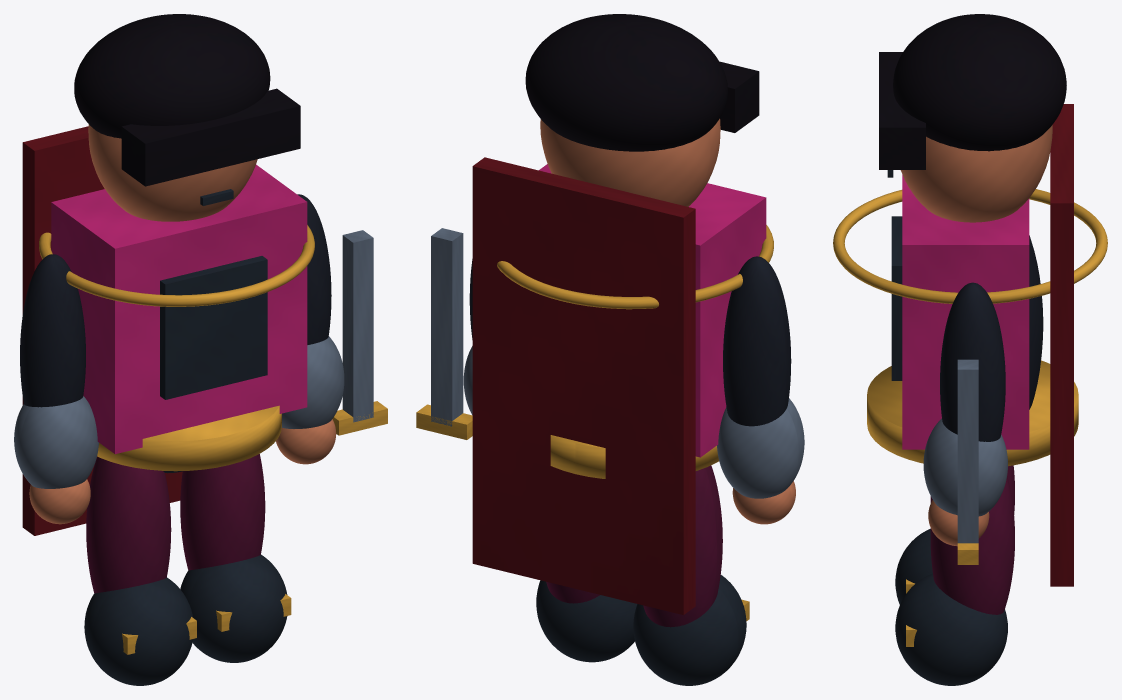
The model's file is Foundation.glb.
3 renders of one model, left to right at view 1: azimuth 30°, elevation 25°; view 2: azimuth 150°, elevation 25°; view 3: azimuth 270°, elevation 25°, orthographic. The views are drawn at different scales.
Visible parts, largest first — view 1: ChestPlate, Hair, ChestInset, HairFringe, Leg, Boot, Arm, Boot.001, Cape, Leg.001, Head, WaistGuard (+8 smaller); view 2: Cape, Hair, ChestPlate, Arm, Head, Boot, Dagger, Gauntlet, Boot.001, Leg, ShoulderCrest, WaistGuard (+4 smaller); view 3: ChestPlate, Hair, Cape, Head, Boot.001, Arm.001, Leg.001, WaistGuard, ShoulderCrest, Gauntlet.001, Dagger, HairFringe (+5 smaller).
Part boxes in pixels (x1=…): ChestPlate: x1=51, y1=164, x2=307, y2=454; Hair: x1=74, y1=14, x2=270, y2=138; ChestInset: x1=160, y1=256, x2=267, y2=399; HairFringe: x1=121, y1=88, x2=300, y2=186; Leg: x1=86, y1=456, x2=171, y2=593; Boot: x1=84, y1=577, x2=193, y2=685; Arm: x1=20, y1=254, x2=85, y2=407; Boot.001: x1=180, y1=554, x2=287, y2=662; Cape: x1=22, y1=126, x2=182, y2=535; Leg.001: x1=180, y1=454, x2=265, y2=570; Head: x1=88, y1=124, x2=257, y2=221; WaistGuard: x1=97, y1=405, x2=281, y2=471; Cape: x1=472, y1=157, x2=695, y2=614; Hair: x1=525, y1=14, x2=727, y2=151; ChestPlate: x1=539, y1=164, x2=766, y2=457; Arm: x1=723, y1=256, x2=791, y2=426; Head: x1=540, y1=118, x2=720, y2=206; Boot: x1=633, y1=575, x2=746, y2=685; Dagger: x1=431, y1=228, x2=463, y2=426; Gauntlet: x1=717, y1=398, x2=804, y2=498; Boot.001: x1=536, y1=580, x2=637, y2=662; Leg: x1=643, y1=465, x2=722, y2=627; ShoulderCrest: x1=497, y1=225, x2=773, y2=309; WaistGuard: x1=550, y1=435, x2=718, y2=478; ChestPlate: x1=902, y1=174, x2=1029, y2=449; Hair: x1=893, y1=14, x2=1066, y2=151; Cape: x1=1050, y1=104, x2=1073, y2=586; Head: x1=900, y1=125, x2=1052, y2=222; Boot.001: x1=895, y1=573, x2=1007, y2=685; Arm.001: x1=940, y1=282, x2=1005, y2=441; Leg.001: x1=930, y1=476, x2=1014, y2=614; WaistGuard: x1=867, y1=360, x2=1078, y2=466; ShoulderCrest: x1=833, y1=189, x2=1107, y2=303; Gauntlet.001: x1=923, y1=418, x2=1007, y2=516; Dagger: x1=957, y1=359, x2=978, y2=543; HairFringe: x1=879, y1=52, x2=925, y2=169.
Bounding box in the file's own units: 1.78 × 2.96 × 1.17.
11 materials, 9 textured.
